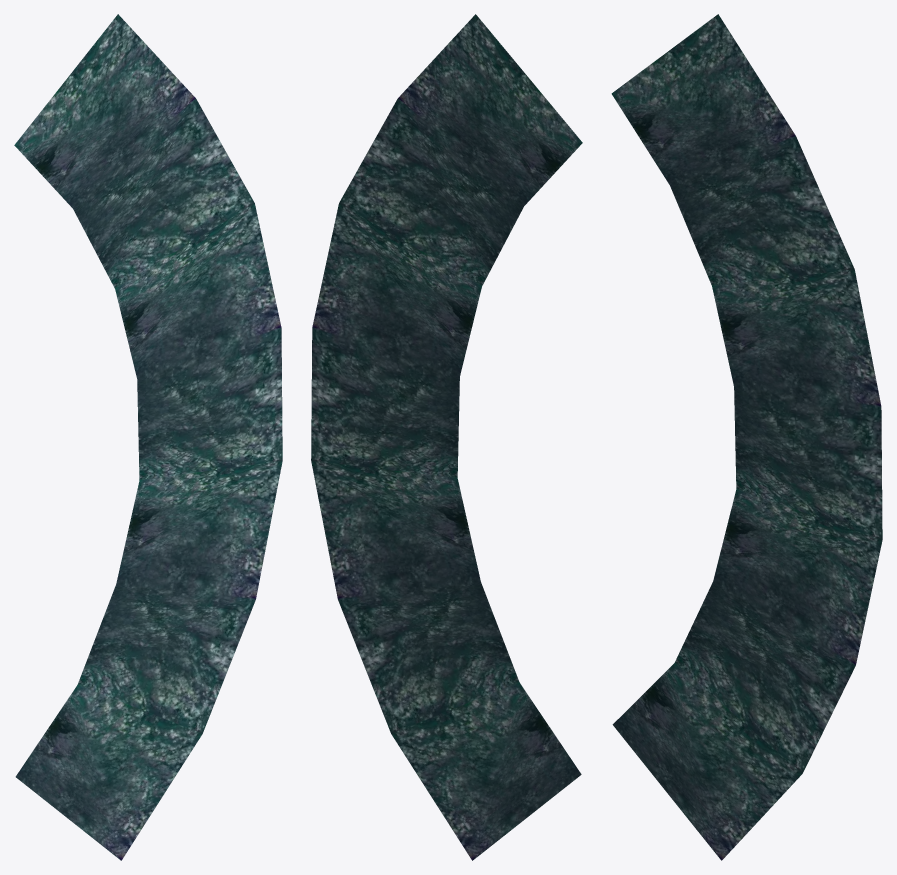
3 renders of one model, left to right at view 1: azimuth 30°, elevation 25°; view 2: azimuth 150°, elevation 25°; view 3: azimuth 330°, elevation 25°, orthographic.
Parts seen in each view (by area): view 1: model_Object03; view 2: model_Object03; view 3: model_Object03.
Boxes of the visible parts, box(x1,y1,x2,y2) form: model_Object03: box(14, 14, 282, 860); model_Object03: box(311, 14, 582, 860); model_Object03: box(611, 14, 882, 860).
Bounding box in the file's own units: 1.07 × 3.2 × 0.0113.
Materials: 1 (1 with a texture image).
